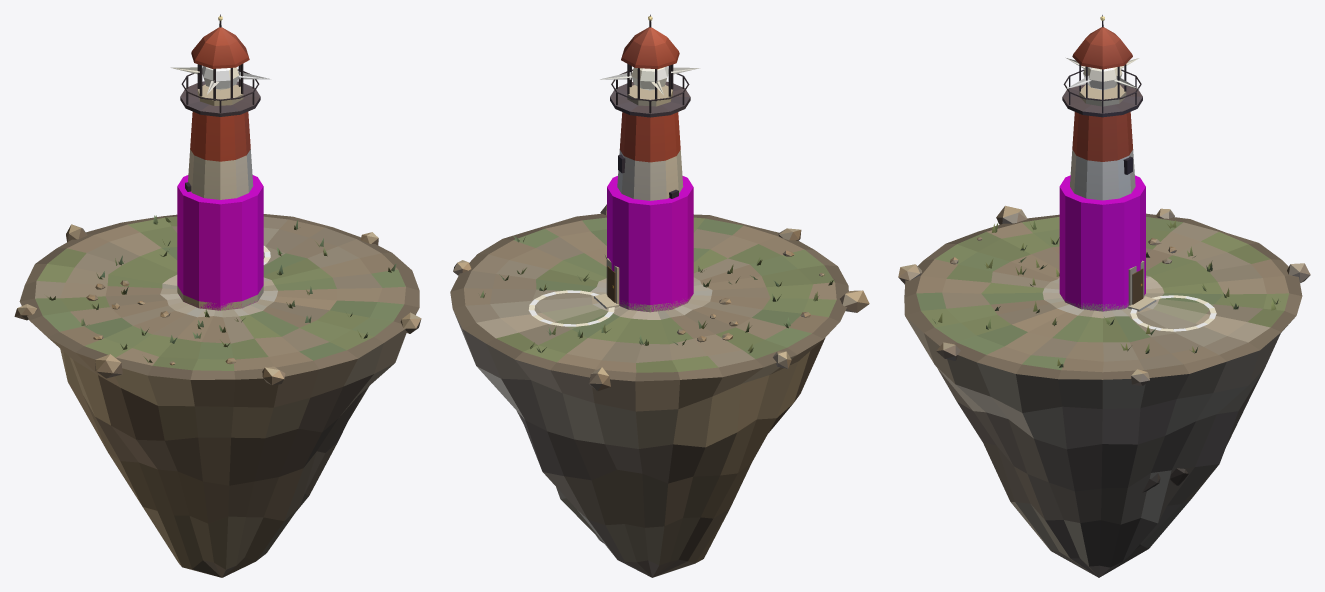
Rendered from isle_beacon.glb.
The picture shows the model from 3 angles, left to right: view 1: azimuth 30°, elevation 25°; view 2: azimuth 150°, elevation 25°; view 3: azimuth 270°, elevation 25°; orthographic projection.
Visible parts, largest first — view 1: isle_beacon, col_beacon, beacon_lamp; view 2: isle_beacon, col_beacon, beacon_lamp, beacon_ring; view 3: isle_beacon, col_beacon, beacon_lamp, beacon_ring.
Part boxes in pixels (x1=…): isle_beacon: x1=14, y1=14, x2=421, y2=577; col_beacon: x1=177, y1=175, x2=263, y2=310; beacon_lamp: x1=170, y1=66, x2=270, y2=94; isle_beacon: x1=450, y1=14, x2=869, y2=577; col_beacon: x1=607, y1=176, x2=693, y2=311; beacon_lamp: x1=599, y1=66, x2=700, y2=94; beacon_ring: x1=528, y1=290, x2=614, y2=326; isle_beacon: x1=898, y1=15, x2=1310, y2=577; col_beacon: x1=1059, y1=175, x2=1145, y2=311; beacon_lamp: x1=1066, y1=58, x2=1139, y2=90; beacon_ring: x1=1130, y1=295, x2=1216, y2=331.
Size of the model in its own units: 20.6 by 31.7 by 21.01.
